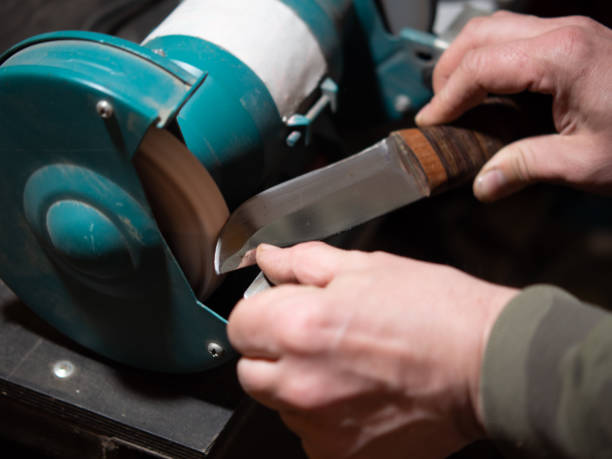knife: (214, 98, 554, 276)
